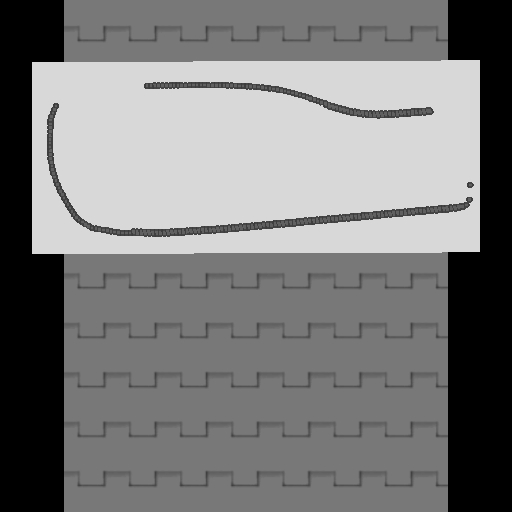Defect: (56, 77, 143, 111)
